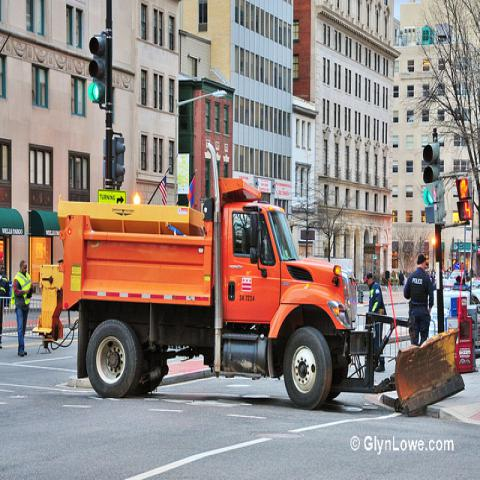truck: (31, 169, 360, 410)
